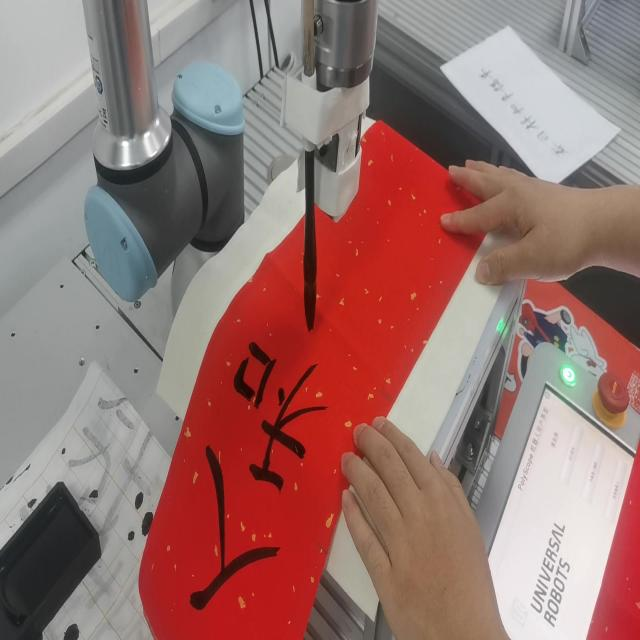head: (300, 284, 318, 335)
inkstone: (0, 481, 105, 640)
writing-brush: (291, 0, 326, 334)
